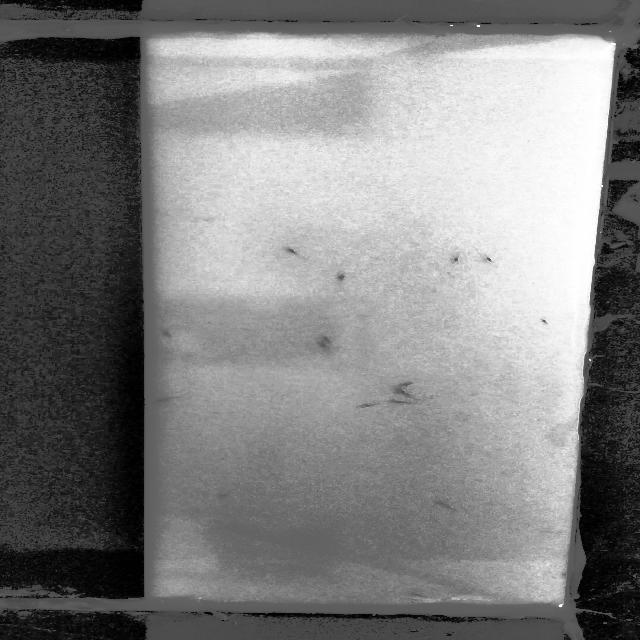shrimp: (275, 244, 304, 258), (406, 590, 437, 603), (432, 498, 465, 510), (312, 332, 340, 346), (386, 396, 415, 409), (445, 250, 467, 266), (478, 251, 502, 265), (330, 270, 351, 283), (162, 330, 181, 344), (354, 401, 381, 410), (395, 388, 419, 398), (217, 487, 236, 499), (150, 396, 175, 405), (390, 380, 420, 387), (316, 342, 332, 351), (540, 316, 552, 327)
